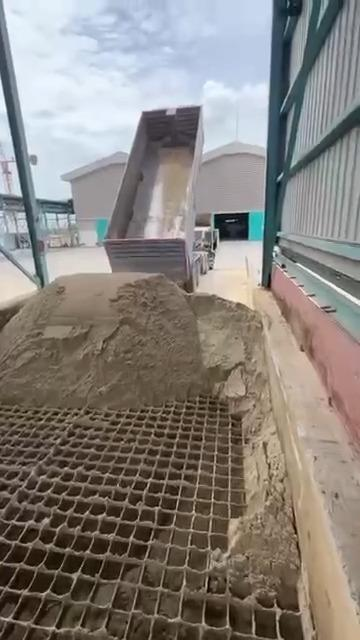sand: (0, 275, 299, 598)
